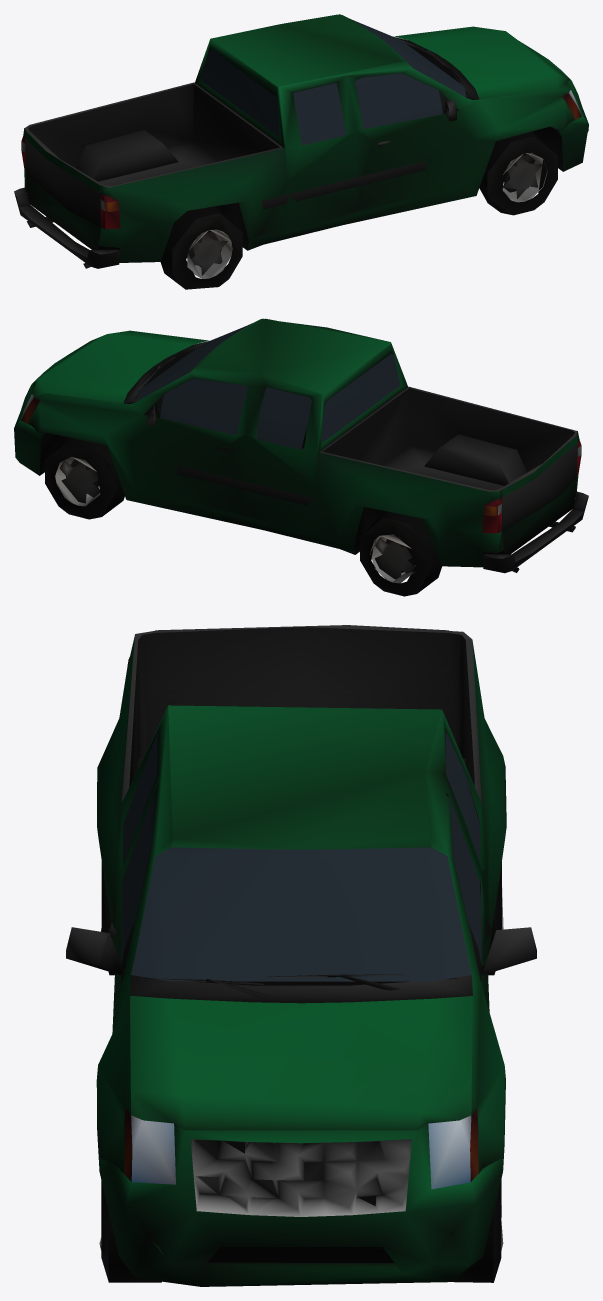
Rendered from pickup.glb.
3 renders of one model, top to bottom at view 1: azimuth 30°, elevation 25°; view 2: azimuth 150°, elevation 25°; view 3: azimuth 270°, elevation 25°, orthographic. The views are drawn at different scales.
Parts seen in each view (by area): view 1: pickup; view 2: pickup; view 3: pickup.
Part boxes in pixels (<box>): pickup: <box>14,14,588,289</box>; pickup: <box>14,318,588,596</box>; pickup: <box>66,625,536,1286</box>.
Size of the model in its own units: 4.6 by 1.47 by 1.84.
